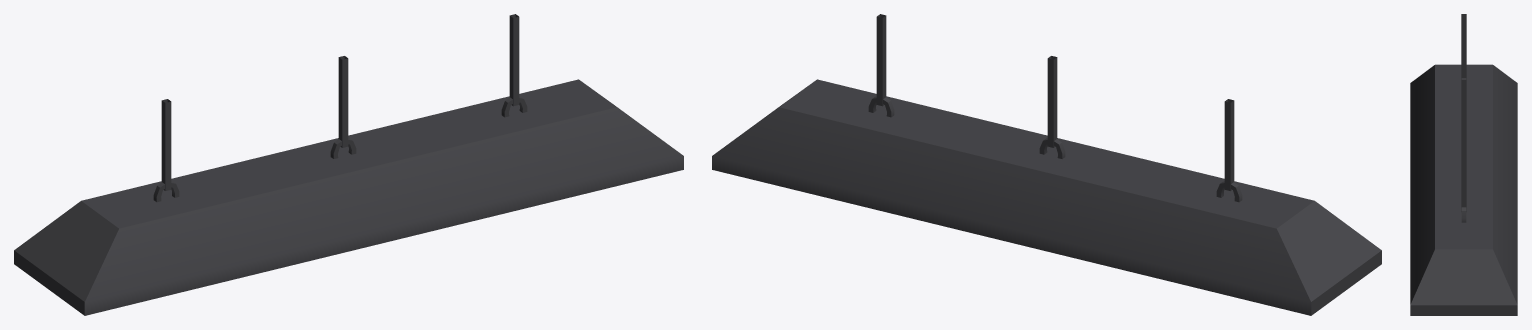
File: SM_Buildings_Ceiling_Light_Large.fbx
The picture shows the model from 3 angles, left to right: view 1: azimuth 30°, elevation 25°; view 2: azimuth 150°, elevation 25°; view 3: azimuth 270°, elevation 25°; orthographic projection. The views are drawn at different scales.
Parts seen in each view (by area): view 1: SM_Buildings_Ceiling_Light_Large; view 2: SM_Buildings_Ceiling_Light_Large; view 3: SM_Buildings_Ceiling_Light_Large.
Boxes of the visible parts, bbox=[...] form: SM_Buildings_Ceiling_Light_Large: bbox=[14, 14, 683, 315]; SM_Buildings_Ceiling_Light_Large: bbox=[712, 14, 1381, 315]; SM_Buildings_Ceiling_Light_Large: bbox=[1410, 14, 1517, 315].
Size of the model in its own units: 318 by 81.44 by 65.01.
1 material, 1 textured.
